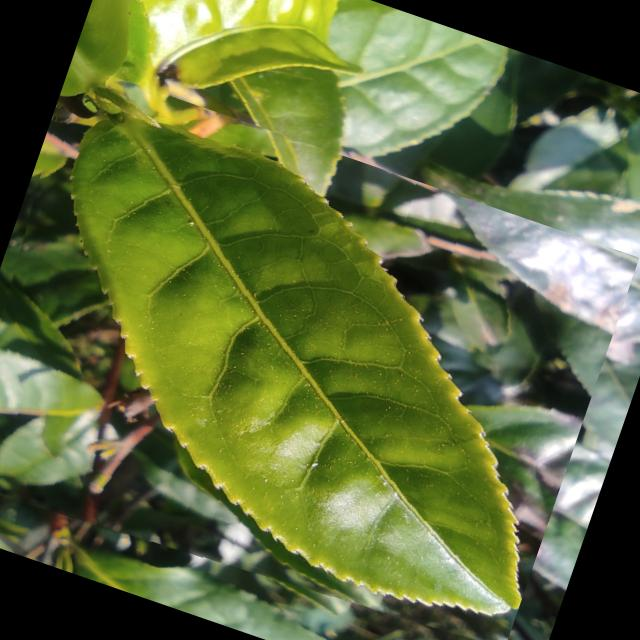Category C(4-7 days): (0, 60, 639, 640)
